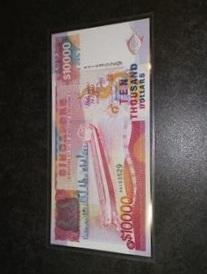10000SingaporeDollar: (53, 35, 148, 247)
